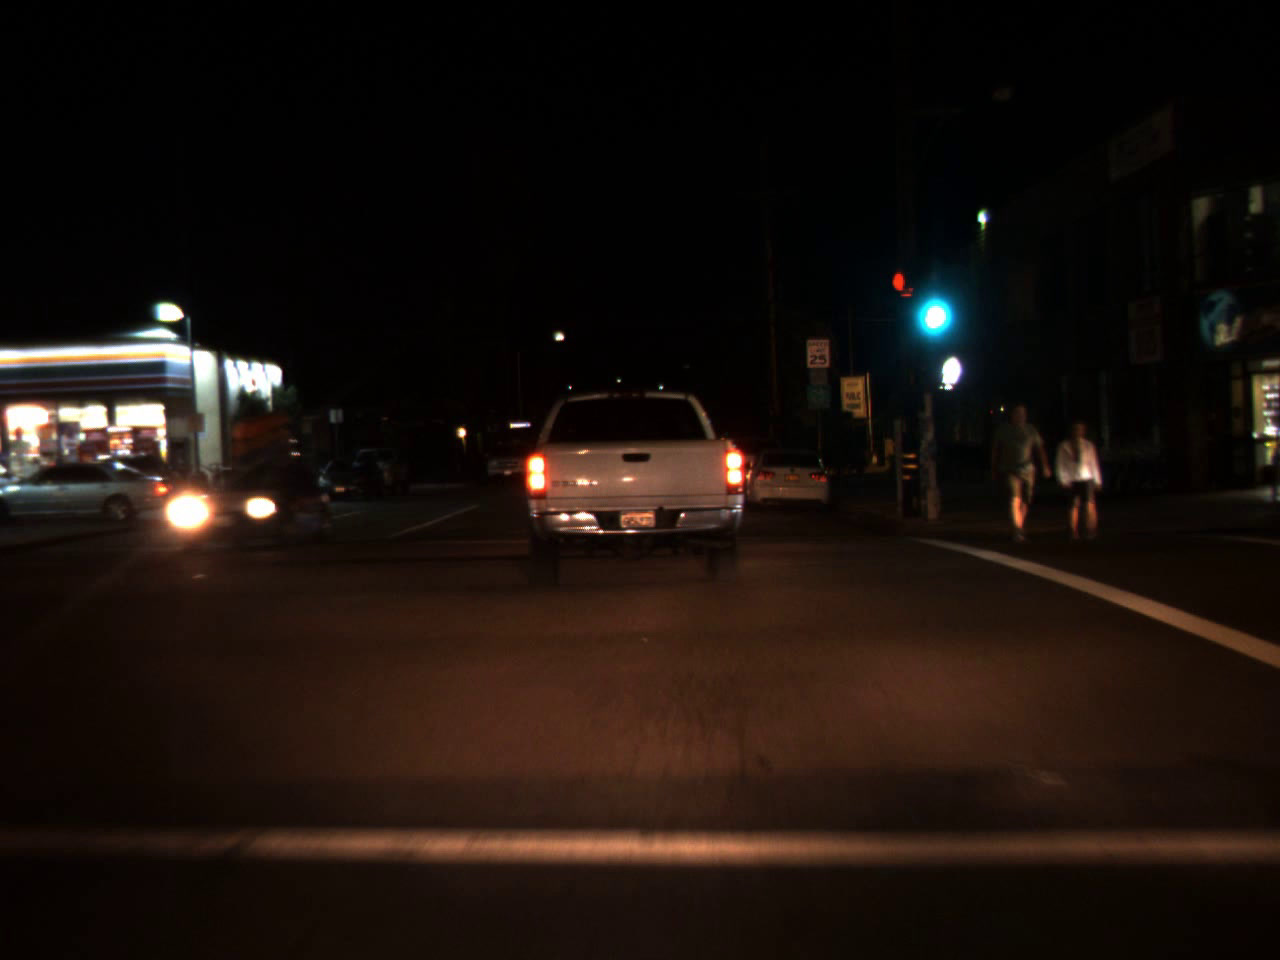go: (903, 260, 953, 347)
